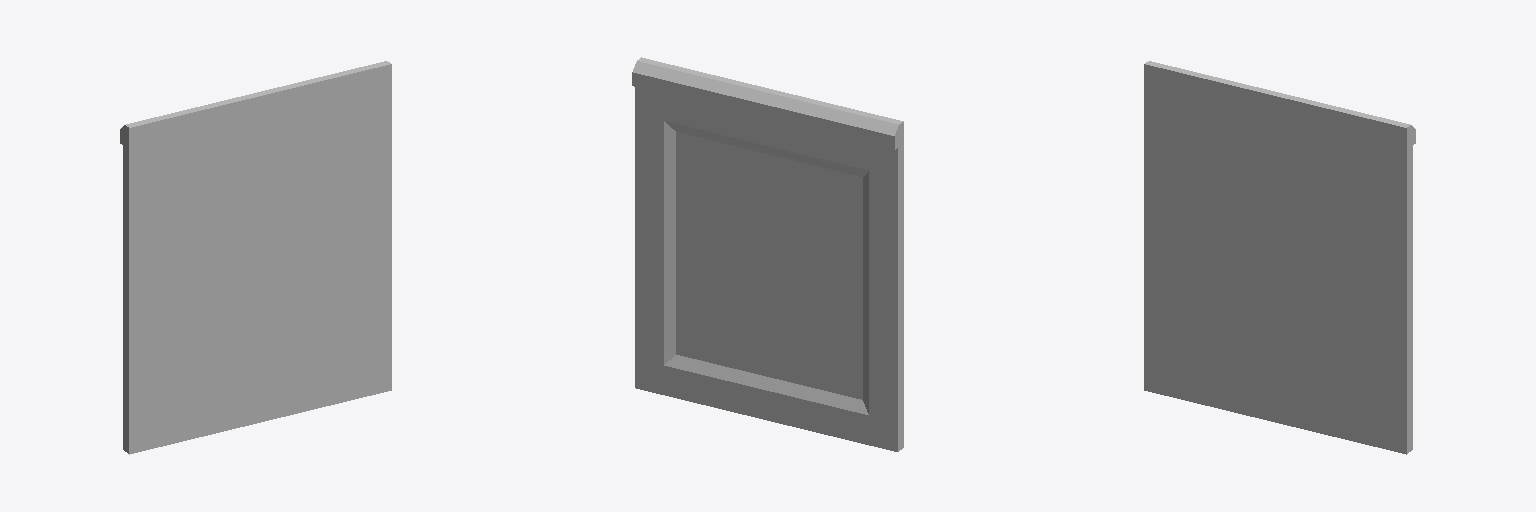
The model's file is paneling.obj.
3 views of the same model, side by side, from view 1: azimuth 30°, elevation 25°; view 2: azimuth 150°, elevation 25°; view 3: azimuth 330°, elevation 25° (orthographic).
Visible parts, largest first — view 1: paneling; view 2: paneling; view 3: paneling.
Boxes of the visible parts, <box> form: paneling: <box>120,61,391,454</box>; paneling: <box>632,57,903,451</box>; paneling: <box>1144,61,1415,454</box>.
Size of the model in its own units: 0.5 by 0.5948 by 0.03.